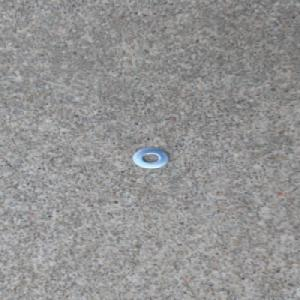Washer: (131, 147, 169, 169)
